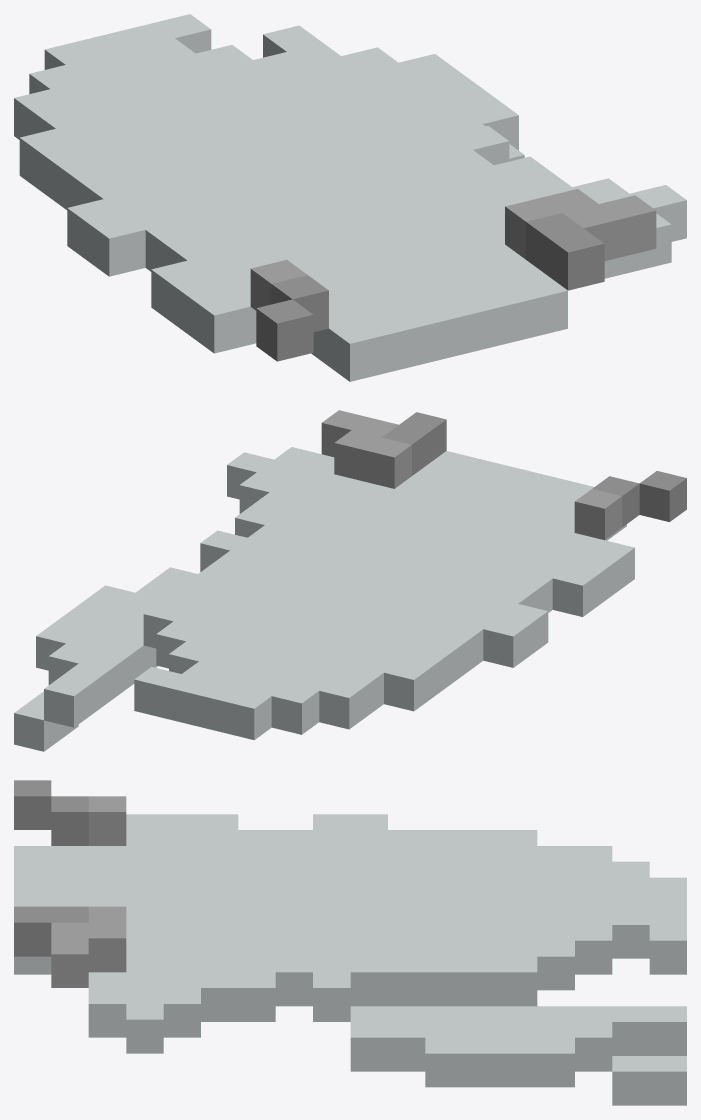
File: Airplane-5.obj
3 views of the same model, one above another, from view 1: azimuth 30°, elevation 25°; view 2: azimuth 150°, elevation 25°; view 3: azimuth 270°, elevation 25° (orthographic). The views are drawn at different scales.
Bounding box in the file's own units: 1.3 × 0.4 × 1.8.
1 material, 1 textured.
